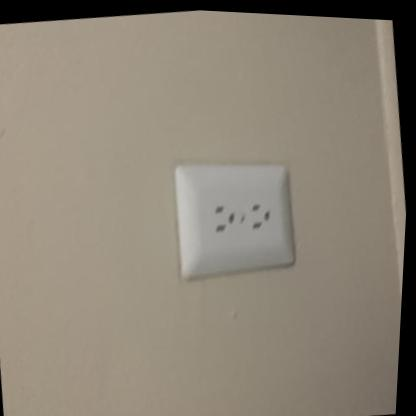OUTLET: (166, 153, 298, 284)
